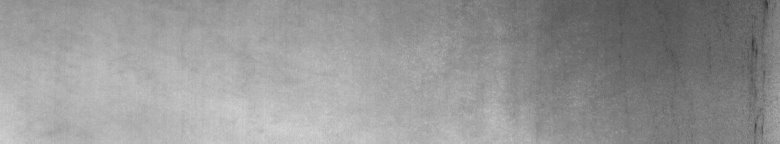ka: (719, 4, 776, 136)
